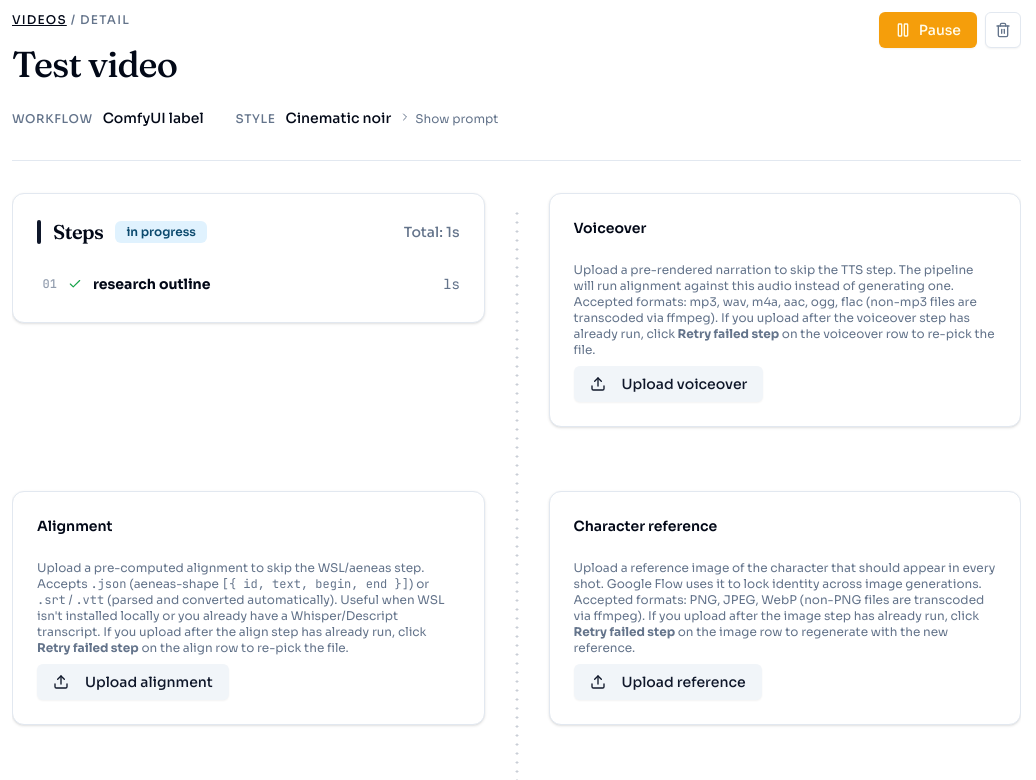
Test: VideoDetailClient — Style header row › 'Show prompt' disclosure reveals the snapshot prompt text
Expected: the text "noir prompt body" is not shown
Click the button "Show prompt" at (449, 119), box [399, 111, 498, 127]
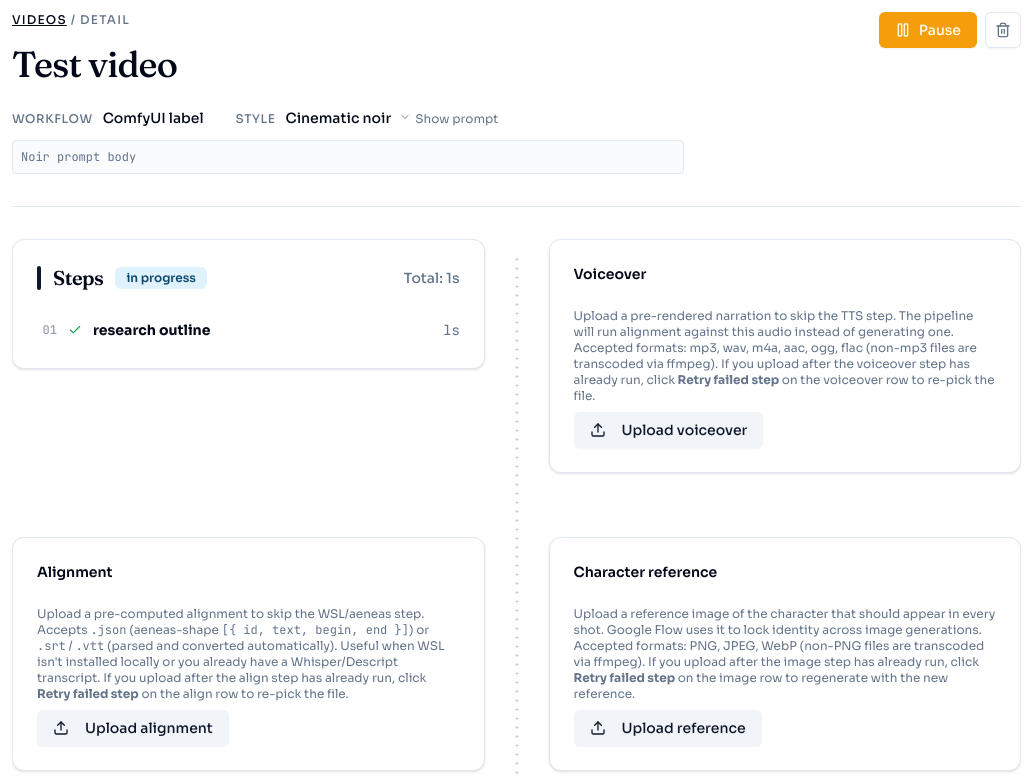
Expected: the text "Noir prompt body" is shown, [12, 140, 684, 174]
